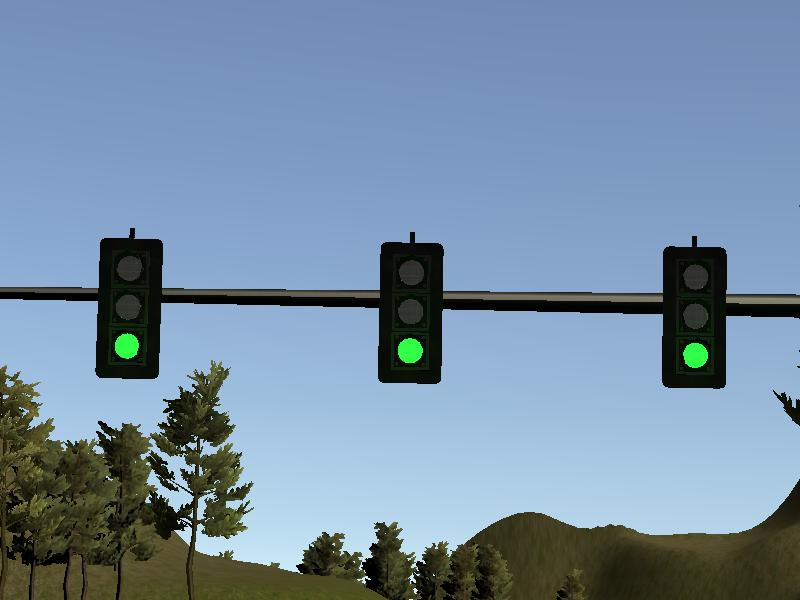green: (379, 244, 443, 385), (661, 247, 725, 388), (97, 239, 161, 380)
